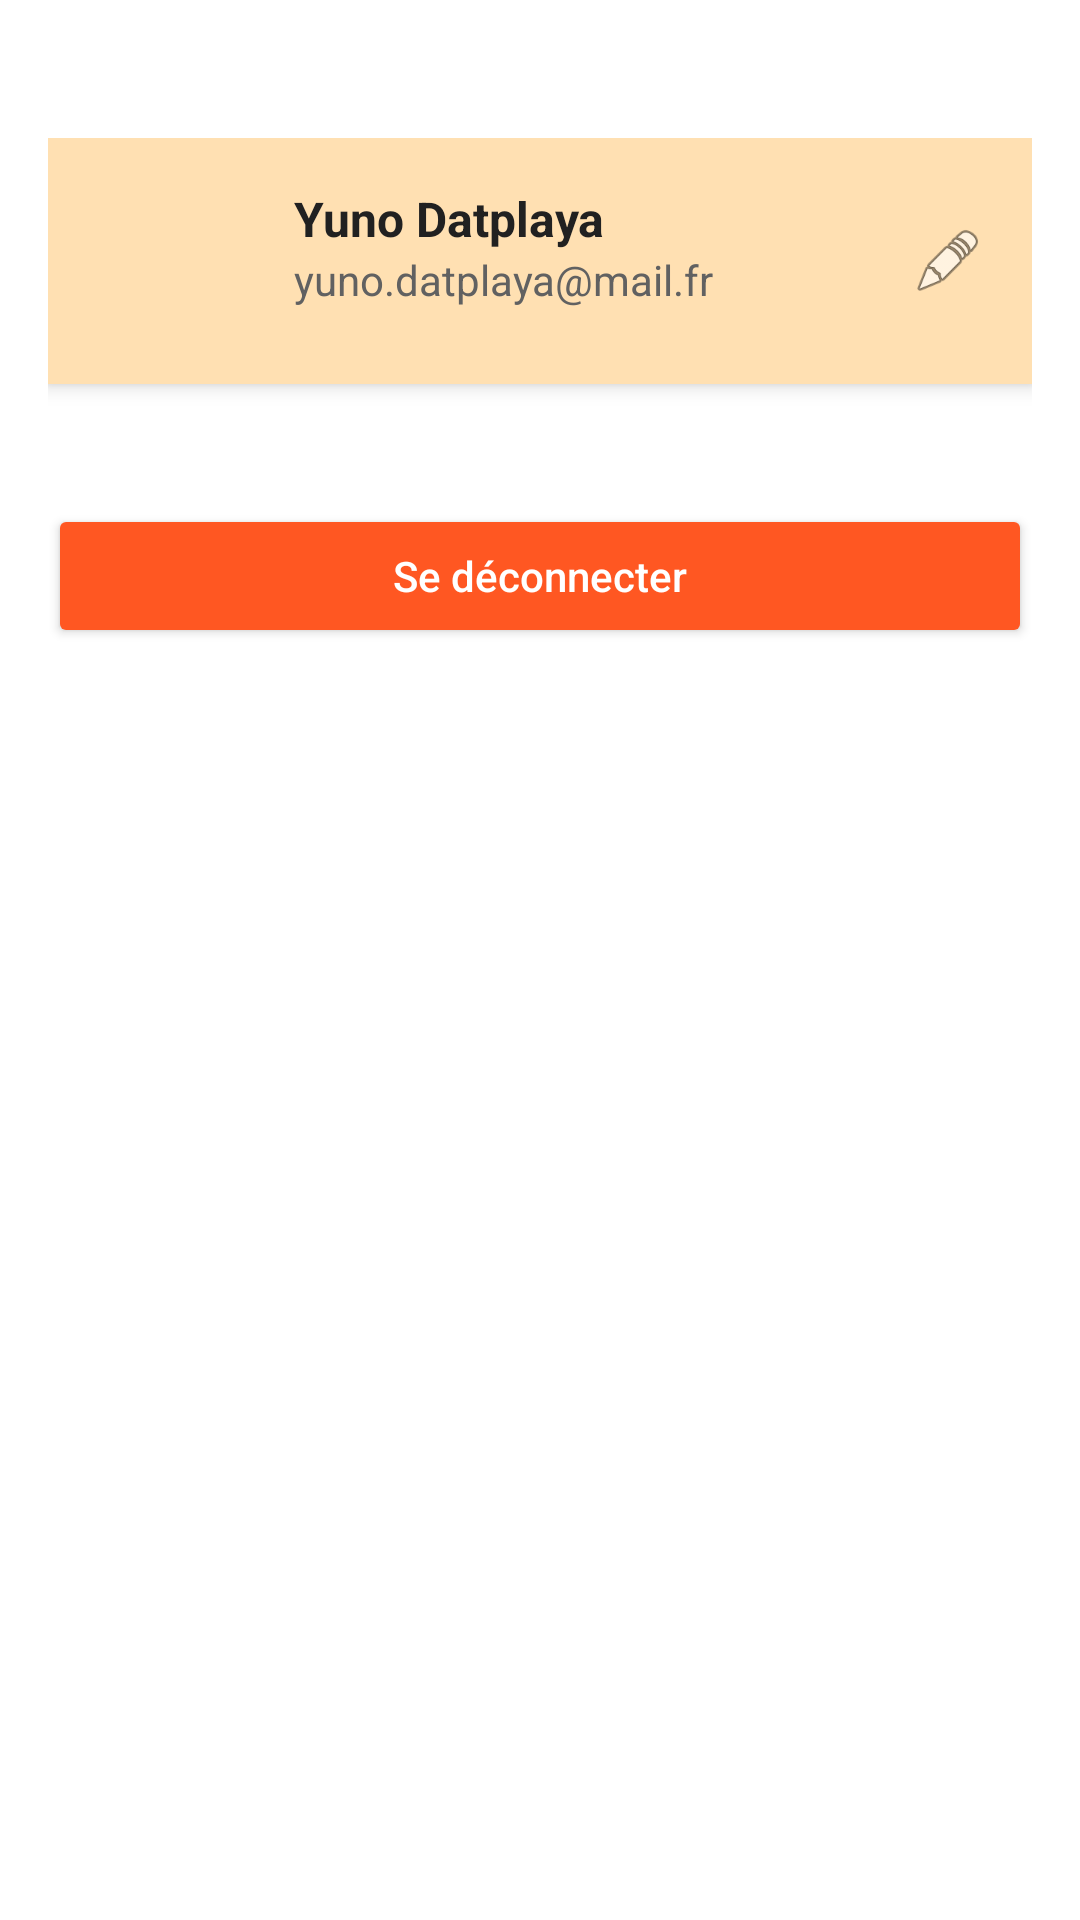

Screen size 1080w x 1920h. Icon name, then its box in pixels as bbox=[x1, y1, x2, y2]:
edit: bbox=[917, 230, 978, 291]
